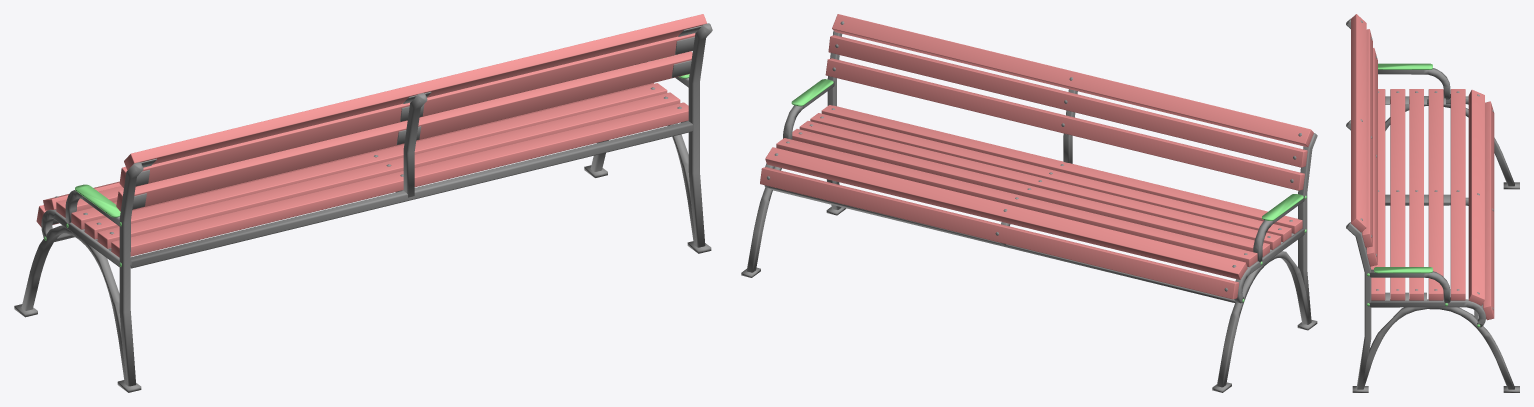
The model's file is bench.gltf.
3 views of the same model, side by side, from view 1: azimuth 30°, elevation 25°; view 2: azimuth 150°, elevation 25°; view 3: azimuth 270°, elevation 25° (orthographic). The views are drawn at different scales.
Parts seen in each view (by area): view 1: bench; view 2: bench; view 3: bench.
Boxes of the visible parts, box(x1,y1,x2,y2) form: bench: box(14, 14, 712, 392); bench: box(741, 14, 1317, 392); bench: box(1346, 14, 1519, 392).
Size of the model in its own units: 18.32 by 7.09 by 6.46.
